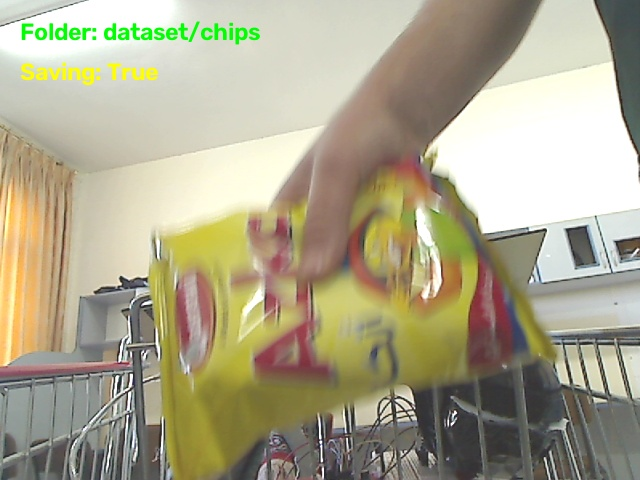chips: (150, 159, 553, 479)
